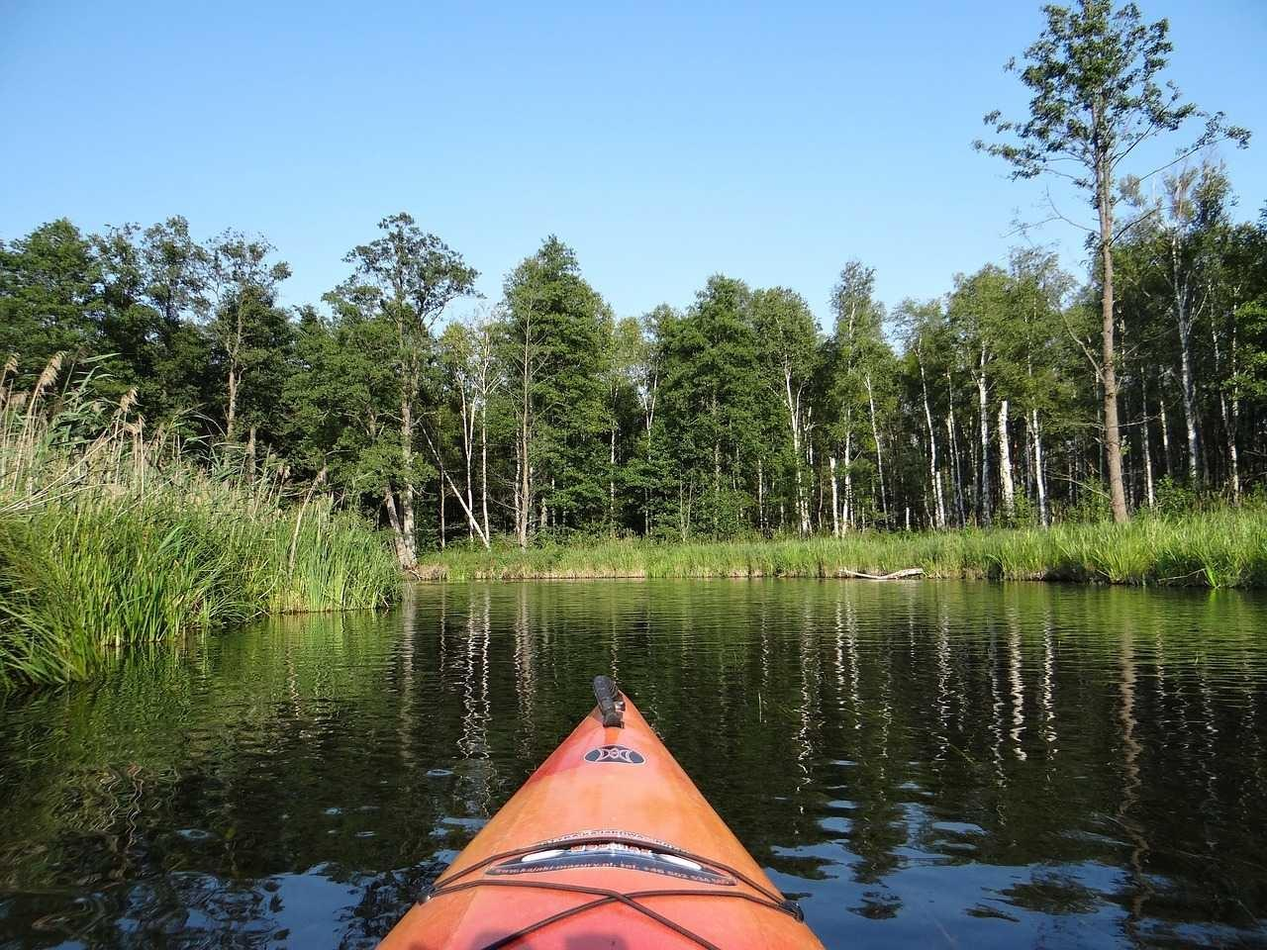kayak: (373, 675, 826, 949)
